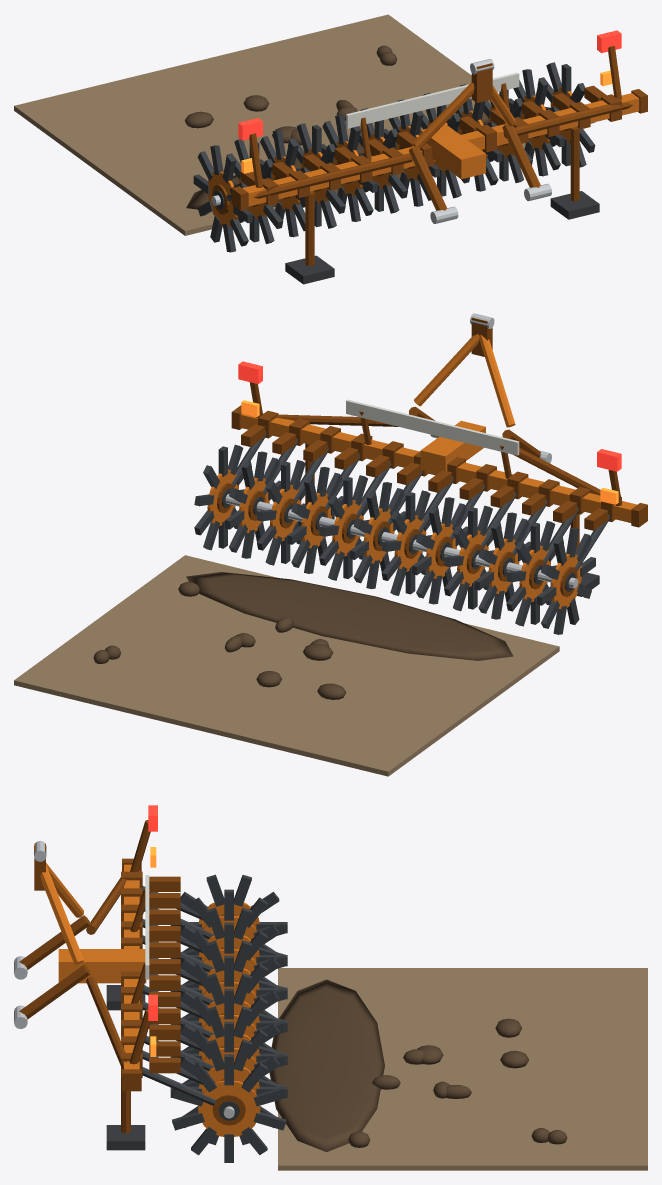
File: rotary_hoe.glb
The picture shows the model from 3 angles, top to bottom: view 1: azimuth 30°, elevation 25°; view 2: azimuth 150°, elevation 25°; view 3: azimuth 270°, elevation 25°; orthographic projection. The views are drawn at different scales.
Parts seen in each view (by area): view 1: HoeProps, HoeBody, HoeWheels; view 2: HoeProps, HoeWheels, HoeBody; view 3: HoeProps, HoeBody, HoeWheels.
Part boxes in pixels (x1,y1,x2,y2): HoeProps: (14,14,556,235); HoeBody: (213,30,647,284); HoeWheels: (193,62,595,252); HoeProps: (14,555,559,776); HoeWheels: (194,444,595,634); HoeBody: (222,313,647,596); HoeProps: (269,968,647,1170); HoeBody: (14,805,239,1150); HoeWheels: (170,874,287,1162).
Bounding box in the file's own units: 2.61 × 1.28 × 3.26.
